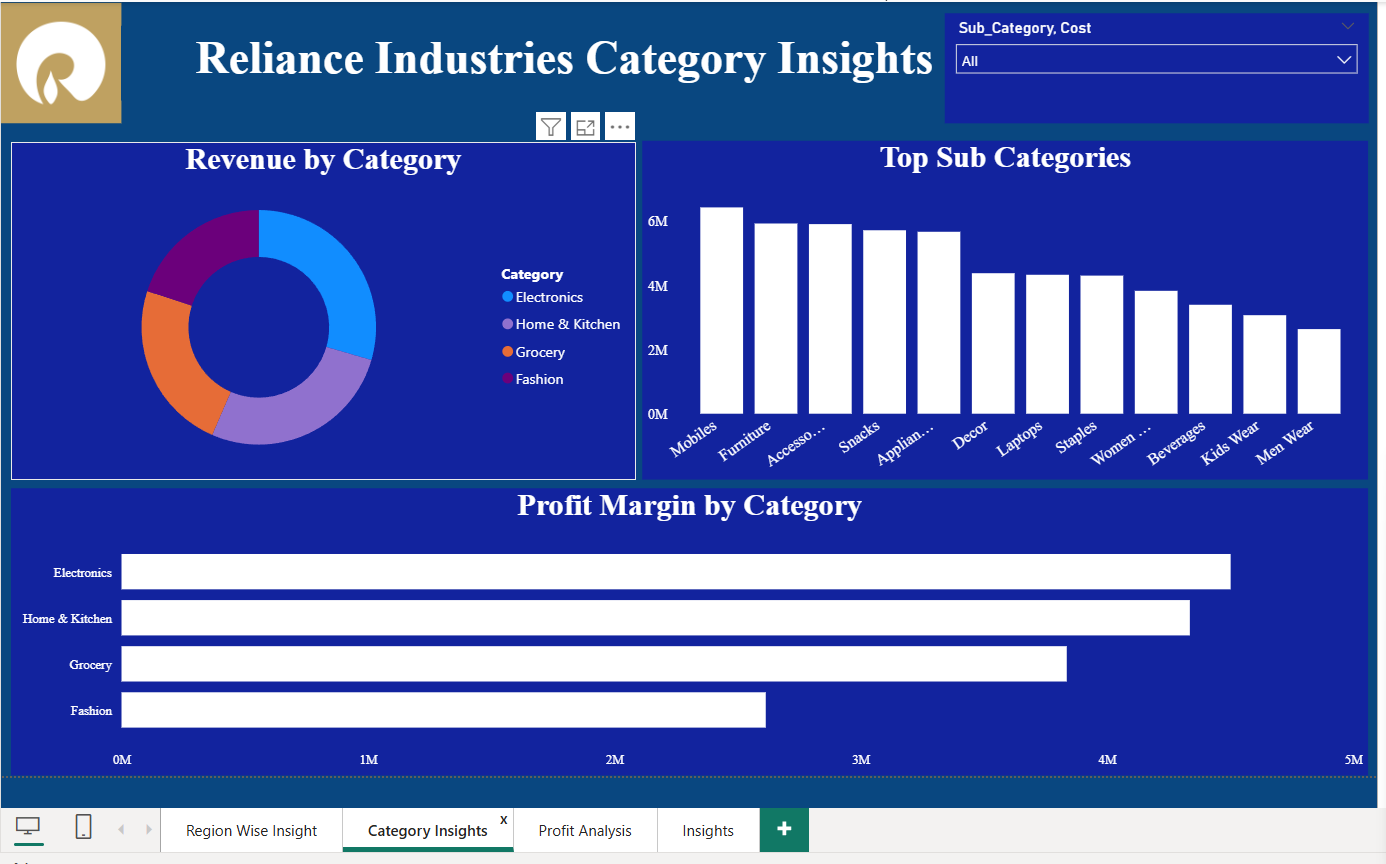

The page's visual inventory and layout, read from the dashboard file:
{"tool":"powerbi","page":{"name":"Category Insights","canvas":[1280,720],"ordinal":1},"visuals":[{"type":"image","box":[0,0,111.7,113.1],"z":0},{"type":"textbox","box":[111.1,22,824.7,70],"z":1000},{"type":"donutChart","title":"Revenue by Category","fields":{"Y":["CountNonNull(Sales_Data.Revenue)"],"Category":["Sales_Data.Category"]},"box":[9.3,130.2,581.4,314],"z":2000},{"type":"clusteredBarChart","title":"Profit Margin by Category","fields":{"Category":["Sales_Data.Category"],"Y":["Sales_Data.Profit"]},"box":[9.3,452.3,1262.8,267.4],"z":3000},{"type":"clusteredColumnChart","title":"Top Sub Categories","fields":{"Category":["Sales_Data.Sub_Category"],"Y":["Sales_Data.Total Revenue"]},"box":[596.5,129.1,675.6,315.1],"z":4000},{"type":"slicer","title":"Top 10 Sub Categories by Revenue","fields":{"Values":["Sales_Data.Sub_Category","Sales_Data.Cost"]},"box":[877.9,10.5,394.2,102.3],"z":5000}]}

Visuals, with their boxes on the page's 1280x720 design canvas (x1, y1, x2, y2). These are canvas units, not pixel positions in the 1386x864 screenshot, which may show the page scaled, cropped or inside an application window:
image: [0, 0, 112, 113]
textbox: [111, 22, 936, 92]
"Revenue by Category" donutChart: [9, 130, 591, 444]
"Profit Margin by Category" clusteredBarChart: [9, 452, 1272, 720]
"Top Sub Categories" clusteredColumnChart: [596, 129, 1272, 444]
"Top 10 Sub Categories by Revenue" slicer: [878, 10, 1272, 113]
